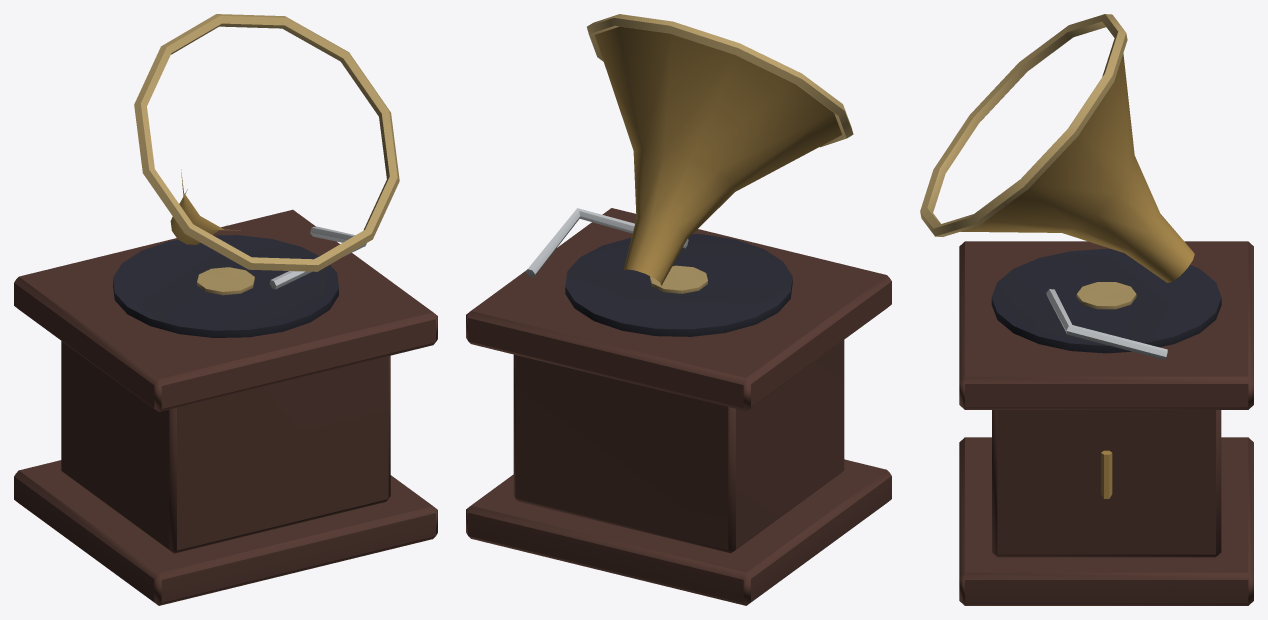
The model's file is gramophone_brass.glb.
The picture shows the model from 3 angles, left to right: view 1: azimuth 30°, elevation 25°; view 2: azimuth 150°, elevation 25°; view 3: azimuth 270°, elevation 25°; orthographic projection.
Visible parts, largest first — view 1: gramophone_brass, record, speaker; view 2: gramophone_brass, speaker, record; view 3: gramophone_brass, speaker, record.
Boxes of the visible parts, x1,y1,x2,y2 form: gramophone_brass: (14,209,437,605); record: (113,235,338,337); speaker: (134,14,399,271); gramophone_brass: (466,208,891,605); speaker: (587,14,853,285); record: (565,234,792,336); gramophone_brass: (959,241,1253,605); speaker: (920,14,1194,282); record: (991,248,1221,353).
Bounding box in the file's own units: 0.8304 × 1.22 × 0.7255.
